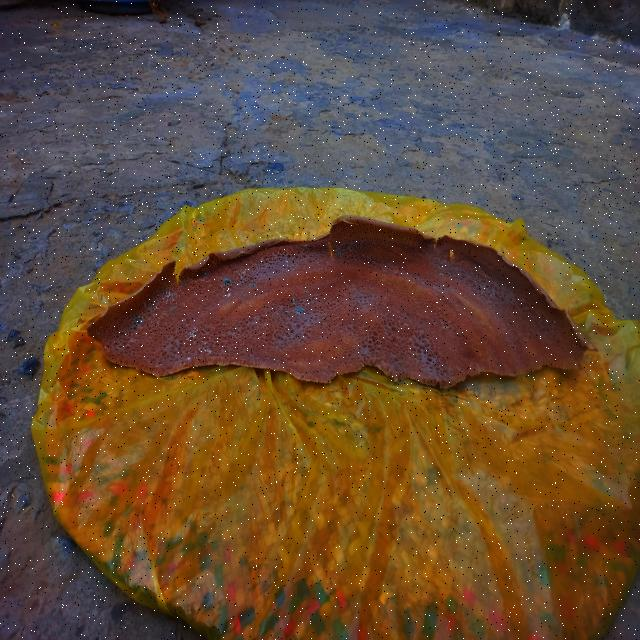injera_mold: (186, 327, 202, 342), (163, 289, 176, 303), (134, 314, 142, 325), (204, 345, 212, 355), (224, 278, 231, 287), (296, 307, 303, 316), (199, 346, 204, 358), (238, 270, 246, 277), (192, 351, 198, 360), (170, 306, 176, 313), (338, 251, 343, 259), (147, 307, 151, 316), (439, 272, 445, 278), (292, 298, 296, 306), (186, 355, 191, 361), (303, 289, 309, 294), (130, 326, 137, 330), (251, 281, 255, 288), (176, 288, 179, 297), (303, 244, 308, 249), (552, 320, 557, 325), (143, 302, 147, 308), (163, 310, 167, 316), (199, 278, 205, 282), (128, 317, 132, 322), (222, 322, 226, 327), (227, 292, 230, 298), (96, 330, 99, 336), (127, 342, 130, 348), (522, 298, 525, 304), (204, 272, 208, 276), (142, 313, 144, 321), (156, 293, 160, 297), (248, 304, 252, 308), (140, 310, 144, 314), (489, 294, 493, 298), (153, 305, 156, 310), (285, 311, 288, 316), (286, 260, 289, 265), (113, 339, 116, 344), (192, 292, 196, 295), (130, 333, 134, 336), (159, 299, 162, 303), (202, 332, 204, 338), (183, 302, 185, 308), (180, 284, 183, 288), (185, 322, 188, 326), (300, 337, 302, 342), (223, 295, 225, 299), (481, 295, 483, 299), (161, 295, 163, 299), (163, 287, 167, 289), (186, 281, 188, 284), (157, 322, 159, 325), (180, 289, 182, 292), (176, 300, 177, 306), (515, 310, 518, 312), (474, 281, 477, 283), (328, 272, 331, 274), (301, 244, 302, 250), (168, 310, 170, 313), (158, 279, 160, 282), (158, 317, 160, 319), (313, 252, 315, 254), (212, 325, 213, 329), (184, 319, 186, 321), (135, 355, 137, 357), (515, 302, 517, 304), (485, 274, 486, 278), (258, 280, 260, 282), (206, 281, 208, 283), (183, 287, 185, 289), (179, 294, 180, 298), (168, 314, 169, 318), (162, 283, 164, 285), (105, 346, 106, 349), (184, 362, 185, 365), (202, 340, 203, 343), (278, 252, 279, 255), (256, 286, 257, 289), (205, 324, 206, 327), (172, 318, 173, 320), (188, 352, 189, 354), (332, 314, 333, 316), (485, 295, 487, 296), (476, 284, 478, 285), (168, 278, 169, 280), (138, 307, 139, 309), (158, 306, 158, 310), (338, 329, 338, 331), (298, 247, 298, 250), (476, 268, 476, 270), (466, 262, 466, 264), (274, 271, 274, 273), (139, 304, 139, 305)
